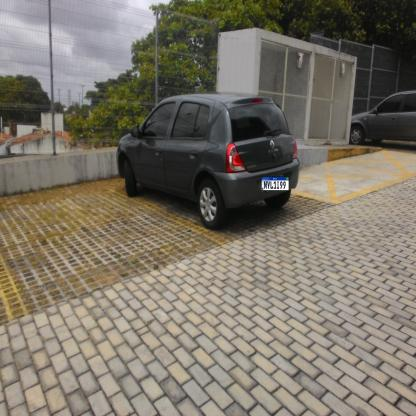PlacaM: (261, 176, 289, 191)
